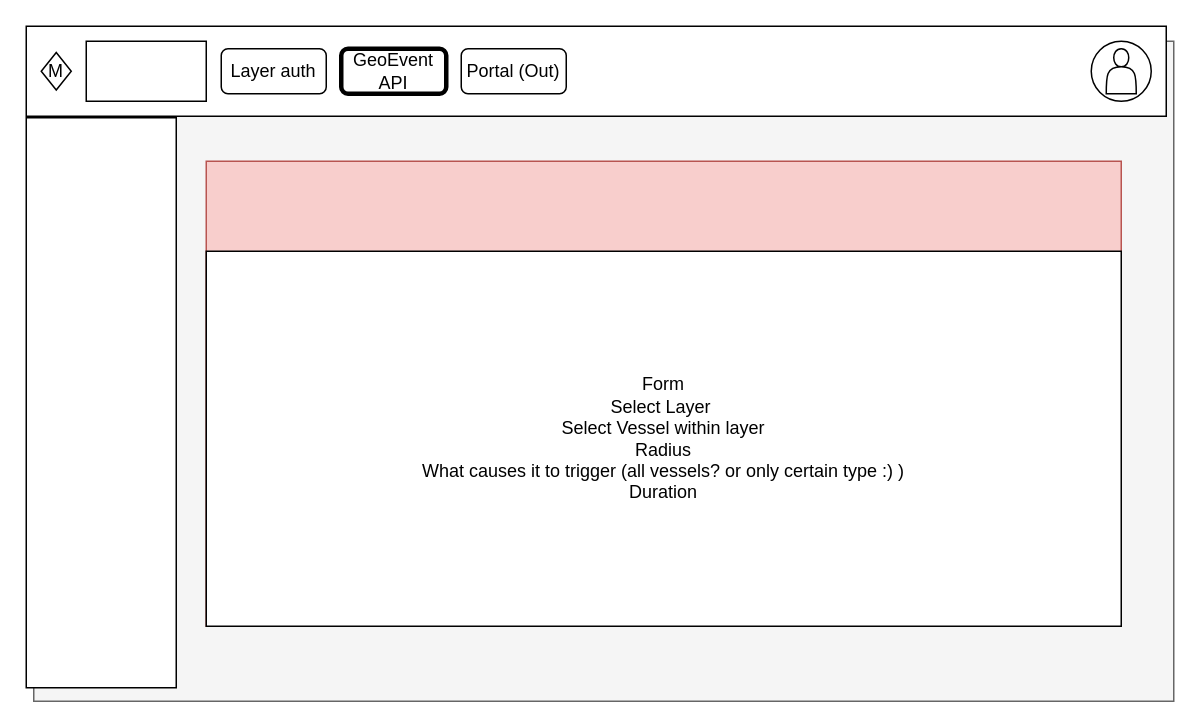
The diagram is 1200 pixels wide and 728 high, and some of its shapes have lost their labels. The shapes that lost their labels are listed below. From the top down, each one's box as (x1, y1, x2, y2) in pixels, then its label:
(85, 40, 206, 101): Title
(25, 116, 176, 688): Static GeoFences Dyamic GeoFences
(205, 160, 1121, 626): Dynamic Geofences - Creation
